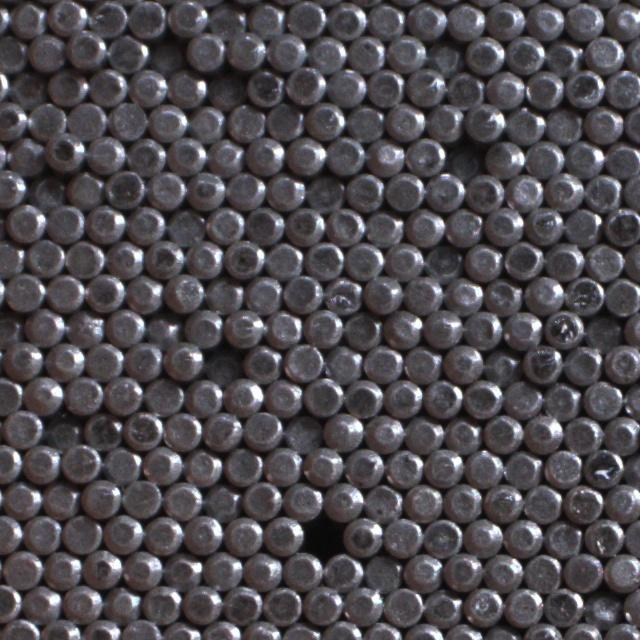tool: (342, 582, 382, 624), (323, 480, 363, 521), (284, 340, 324, 381), (442, 550, 482, 591), (142, 582, 182, 623), (542, 447, 582, 487), (162, 478, 202, 518), (242, 408, 282, 448), (483, 205, 523, 245), (126, 204, 166, 244), (242, 550, 282, 590), (106, 168, 146, 208), (24, 374, 64, 414), (503, 585, 543, 625), (102, 511, 142, 551), (122, 476, 162, 516), (502, 308, 542, 348), (522, 344, 562, 384), (343, 447, 383, 487), (108, 32, 148, 72), (304, 376, 344, 416), (122, 549, 162, 589), (424, 100, 464, 140), (502, 240, 542, 280), (42, 548, 82, 588), (524, 274, 564, 314), (66, 28, 106, 68), (225, 29, 265, 69), (524, 553, 564, 593), (102, 582, 142, 622), (122, 407, 162, 447), (484, 137, 524, 177), (545, 306, 585, 346), (46, 130, 85, 171), (565, 550, 604, 590), (263, 584, 302, 624), (3, 547, 43, 586), (128, 67, 168, 106), (564, 67, 604, 106), (463, 378, 502, 418), (82, 547, 121, 587), (7, 201, 46, 241), (563, 344, 602, 384), (405, 206, 444, 246), (264, 376, 303, 416), (223, 446, 262, 486), (182, 582, 221, 622), (483, 480, 522, 520), (363, 273, 402, 313), (464, 586, 503, 626), (286, 64, 325, 104), (564, 482, 603, 522), (384, 584, 423, 624), (465, 171, 504, 211), (403, 550, 442, 590), (582, 378, 622, 417), (524, 205, 564, 244), (465, 102, 504, 142), (61, 511, 100, 551), (164, 272, 203, 312), (64, 374, 103, 414), (266, 171, 305, 211), (202, 408, 241, 448), (525, 68, 564, 108), (484, 550, 523, 590), (304, 240, 343, 280), (22, 582, 61, 622), (245, 67, 285, 106), (584, 32, 624, 71), (324, 550, 363, 590), (285, 135, 325, 174), (422, 307, 461, 347), (223, 583, 262, 623), (464, 34, 504, 73), (423, 585, 462, 625), (463, 516, 502, 556), (26, 236, 65, 276), (102, 444, 141, 484), (144, 376, 184, 415), (522, 482, 562, 521), (423, 378, 462, 418), (61, 442, 100, 482), (24, 306, 63, 346), (365, 136, 404, 176), (242, 478, 281, 518), (182, 512, 221, 552), (302, 584, 341, 624), (263, 514, 302, 554), (423, 517, 462, 557), (326, 134, 365, 174), (145, 238, 184, 278), (184, 238, 223, 278), (346, 33, 386, 72), (522, 412, 562, 451), (27, 30, 66, 70), (383, 514, 422, 554), (342, 514, 381, 554), (225, 237, 264, 277), (126, 135, 166, 174), (404, 135, 444, 174), (446, 69, 485, 109), (64, 239, 104, 278), (143, 514, 183, 553), (245, 205, 285, 244), (5, 135, 45, 174), (542, 380, 581, 420), (42, 409, 82, 448), (346, 376, 385, 416), (385, 101, 424, 140), (302, 446, 341, 485), (363, 482, 402, 521), (385, 171, 424, 210), (104, 374, 143, 413), (406, 66, 445, 105), (283, 479, 322, 518), (424, 447, 463, 486), (225, 169, 264, 208), (383, 308, 422, 347), (583, 517, 622, 556), (264, 308, 303, 347), (88, 66, 127, 105), (327, 66, 366, 105), (502, 448, 541, 487), (226, 102, 265, 141), (486, 69, 525, 108), (203, 549, 242, 588), (2, 407, 41, 446), (326, 0, 365, 39), (463, 309, 502, 348), (84, 340, 123, 379), (224, 376, 263, 415), (403, 274, 442, 313), (147, 169, 186, 208), (205, 275, 244, 314), (46, 271, 85, 310), (442, 344, 481, 383), (47, 67, 86, 106), (324, 411, 363, 450), (565, 138, 604, 177), (505, 34, 544, 73), (86, 133, 125, 172), (503, 517, 542, 556), (83, 409, 122, 448), (343, 240, 382, 279), (143, 445, 182, 484), (241, 343, 280, 382), (482, 412, 521, 451), (44, 340, 83, 379), (563, 413, 602, 452), (544, 242, 583, 281), (246, 0, 285, 39), (284, 548, 322, 588), (404, 481, 442, 521), (6, 270, 44, 310), (184, 446, 222, 486), (86, 272, 124, 312), (402, 344, 440, 384), (384, 377, 422, 417), (444, 206, 482, 246), (426, 171, 464, 211), (306, 99, 344, 139), (443, 481, 481, 521), (163, 341, 201, 381), (304, 306, 342, 346), (224, 307, 262, 347), (124, 339, 162, 379), (346, 170, 384, 210), (385, 240, 423, 280), (162, 550, 202, 588), (244, 134, 282, 174), (244, 274, 282, 314), (224, 513, 262, 553), (68, 99, 106, 139), (266, 100, 304, 140), (564, 276, 604, 314), (28, 100, 66, 140), (564, 205, 602, 244), (86, 203, 124, 242), (366, 68, 404, 107), (62, 582, 100, 621), (365, 207, 403, 246), (364, 343, 402, 382), (565, 0, 603, 39), (385, 447, 423, 486), (584, 105, 622, 144), (105, 306, 144, 344), (544, 171, 582, 210), (544, 105, 582, 144), (204, 204, 243, 242), (286, 205, 324, 244), (342, 309, 381, 347), (184, 307, 222, 346), (148, 102, 186, 141), (503, 378, 541, 417), (525, 1, 564, 39), (505, 104, 543, 143), (203, 480, 241, 519), (366, 1, 404, 40), (486, 0, 524, 39), (543, 519, 581, 558), (506, 171, 544, 210), (125, 274, 164, 312), (109, 99, 147, 138), (163, 409, 201, 448), (284, 273, 322, 312), (82, 477, 120, 516), (185, 376, 223, 415), (387, 33, 426, 71), (483, 275, 522, 313), (325, 344, 363, 383), (267, 31, 306, 69), (23, 512, 61, 551), (46, 202, 84, 241), (265, 241, 303, 280), (445, 1, 483, 40), (22, 443, 60, 482), (167, 134, 205, 173), (41, 478, 79, 517), (308, 33, 346, 72), (7, 67, 46, 105), (444, 274, 482, 313), (525, 139, 563, 178), (363, 552, 402, 590), (104, 238, 143, 276), (144, 309, 182, 348), (324, 275, 362, 314), (326, 206, 364, 245), (3, 339, 42, 377), (306, 172, 345, 210), (481, 346, 520, 384), (206, 71, 244, 110), (424, 246, 463, 284), (585, 450, 624, 488), (543, 589, 582, 627), (66, 307, 104, 346), (207, 2, 246, 40), (128, 0, 168, 37), (603, 412, 640, 452), (603, 205, 640, 245), (464, 447, 502, 485), (263, 445, 301, 483), (407, 0, 445, 38), (464, 242, 502, 280), (167, 69, 205, 107), (2, 479, 40, 517), (66, 169, 104, 207), (585, 242, 623, 280), (365, 413, 403, 451), (584, 172, 622, 210), (404, 414, 442, 452), (345, 102, 383, 140), (283, 414, 321, 452), (544, 36, 582, 74), (584, 311, 622, 349), (202, 347, 240, 385), (28, 172, 66, 210), (444, 142, 482, 180), (302, 513, 340, 551), (187, 169, 224, 208), (187, 31, 224, 70), (603, 343, 640, 382), (604, 276, 640, 316), (88, 0, 128, 36), (188, 104, 225, 142), (8, 0, 46, 37), (443, 415, 481, 452), (584, 588, 622, 625), (206, 135, 243, 173), (148, 36, 185, 74), (166, 208, 204, 245), (287, 0, 326, 36), (604, 551, 640, 590), (426, 38, 463, 75), (604, 140, 640, 178), (605, 67, 640, 106), (605, 482, 640, 520), (48, 0, 86, 35), (168, 0, 206, 35), (606, 0, 640, 39), (0, 100, 27, 140), (80, 615, 120, 640), (0, 33, 27, 70), (0, 168, 25, 206), (40, 617, 80, 640), (0, 238, 24, 276), (122, 616, 160, 640), (1, 617, 40, 640), (321, 618, 361, 640), (0, 374, 22, 413), (0, 579, 21, 619), (240, 619, 280, 640), (0, 512, 21, 552), (0, 442, 21, 482), (202, 618, 240, 640), (0, 308, 22, 346), (362, 619, 401, 640), (562, 620, 602, 640), (161, 620, 200, 640), (282, 620, 320, 640), (403, 621, 442, 640), (622, 586, 640, 626), (603, 621, 640, 640), (443, 622, 482, 640), (522, 622, 561, 640), (623, 102, 640, 142), (623, 516, 640, 556), (623, 379, 640, 418), (482, 623, 520, 640), (623, 448, 640, 486)
